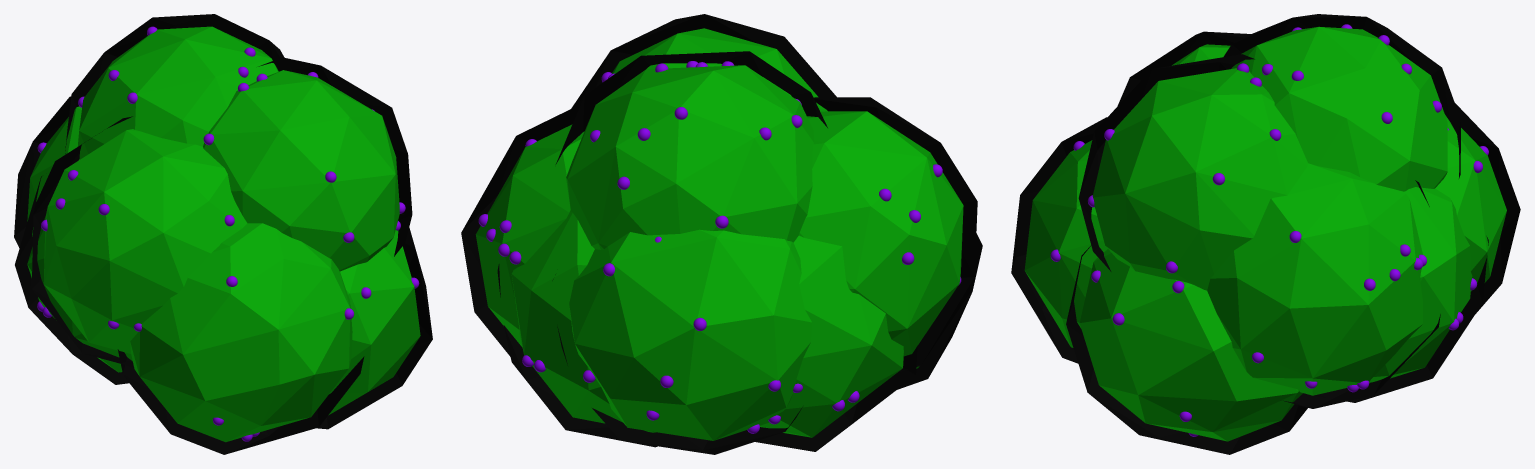
Rendered from berry bush.fbx.
3 views of the same model, side by side, from view 1: azimuth 30°, elevation 25°; view 2: azimuth 150°, elevation 25°; view 3: azimuth 270°, elevation 25° (orthographic). The views are drawn at different scales.
Parts seen in each view (by area): view 1: berry bush; view 2: berry bush; view 3: berry bush.
Part boxes in pixels (x1,y1,x2,y2): berry bush: [14, 14, 432, 454]; berry bush: [461, 14, 982, 454]; berry bush: [1011, 14, 1520, 454].
Bounding box in the file's own units: 141 × 129 × 153.
